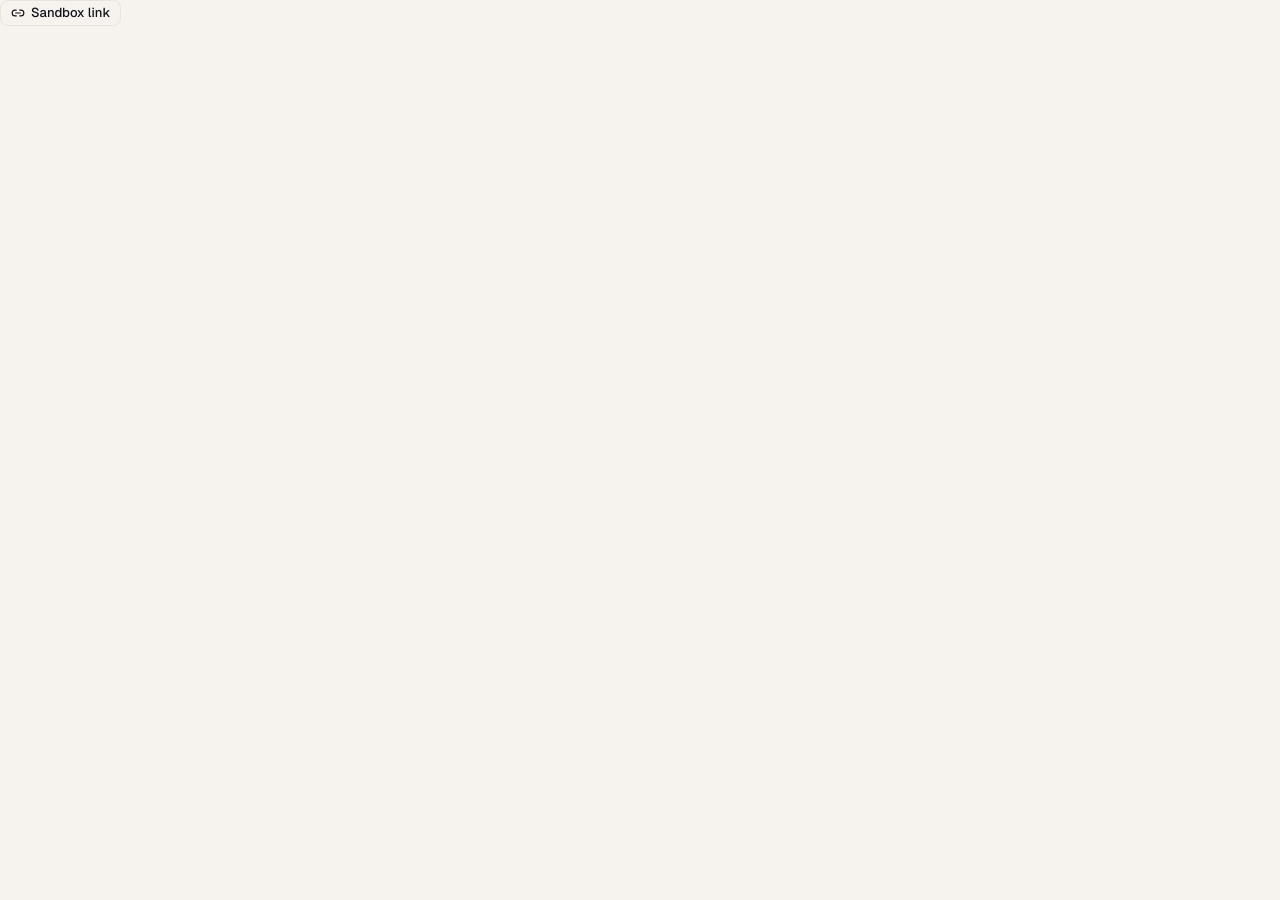
SandboxLinkDialog › an expired link shows a muted status badge instead of a Revoke control
The width and height of the screenshot is (1280, 900).
Click the button "Sandbox link" at (61, 13), box [0,0,121,26]
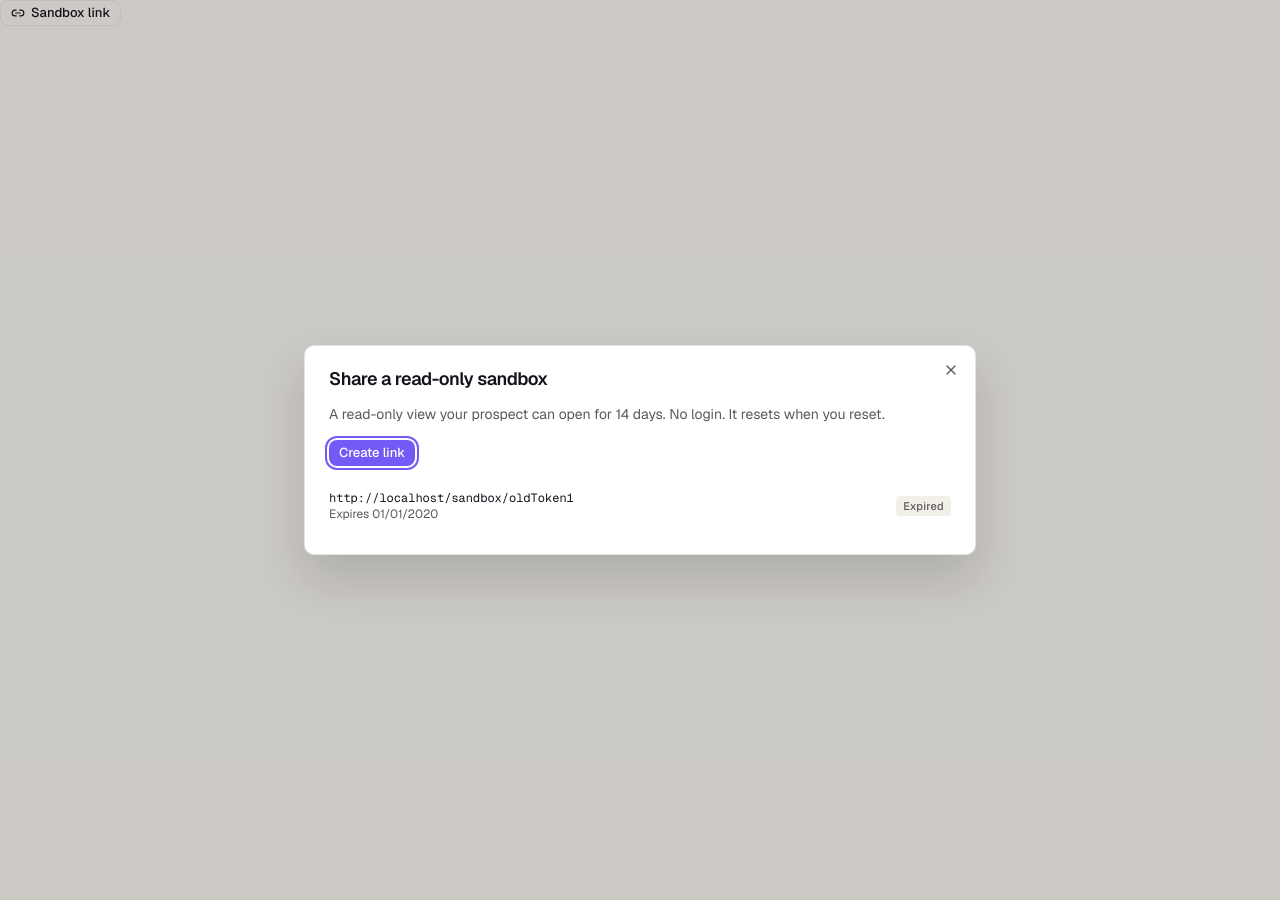
expect the text "Expired" is shown: met, box [896,496,951,516]
